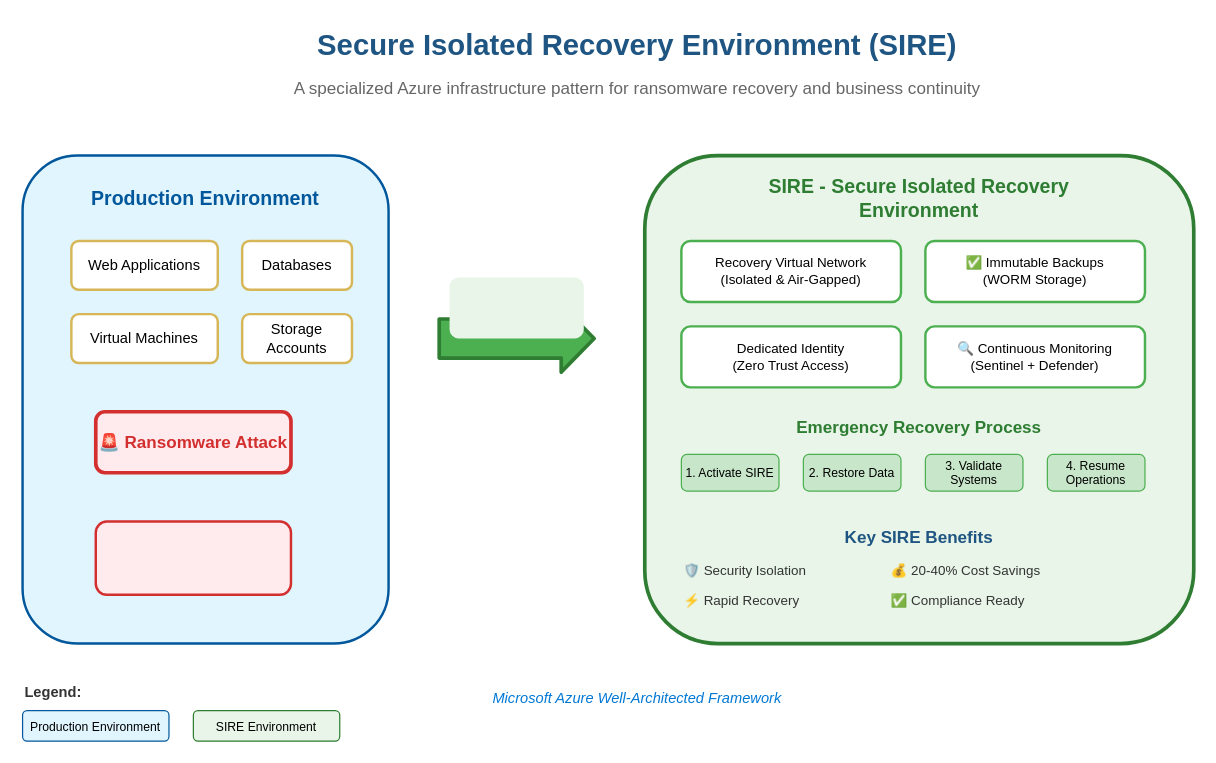
Some shapes in this 1216 by 763 pixel diagram are drawn without their labels. Each missing label, with the box of its shape:
Secure Isolation Network • Identity • Access: (449, 277, 583, 338)
❌ Traditional Backups (Potentially Compromised): (94, 520, 292, 595)
